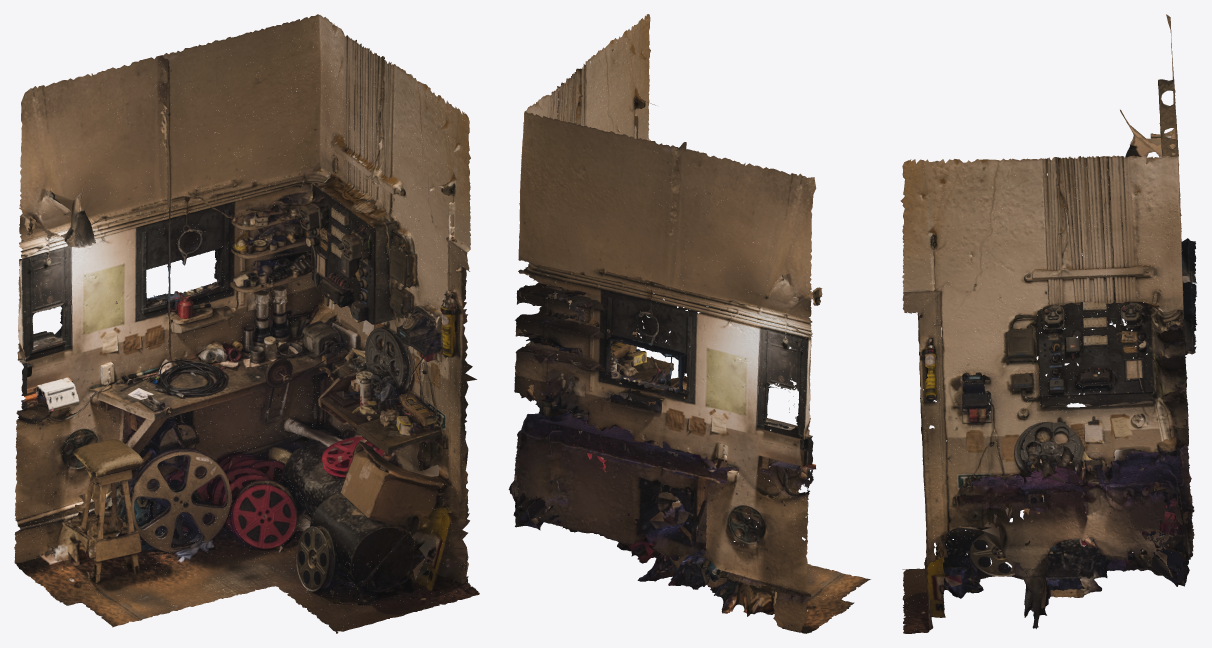
Rendered from crystal_palace_cinema_from_realityvirtual.co.glb.
3 views of the same model, side by side, from view 1: azimuth 30°, elevation 25°; view 2: azimuth 150°, elevation 25°; view 3: azimuth 270°, elevation 25° (orthographic). The views are drawn at different scales.
Visible parts, largest first — view 1: Object_2, Object_3, Object_4, Object_5, Object_6, Object_7, Object_8; view 2: Object_2, Object_3, Object_4, Object_6, Object_5, Object_7, Object_8; view 3: Object_2, Object_4, Object_3, Object_5, Object_6, Object_7, Object_8.
Boxes of the visible parts, x1,y1,x2,y2 form: Object_2: (14, 26, 479, 626); Object_3: (17, 14, 475, 633); Object_4: (14, 15, 455, 631); Object_5: (15, 14, 468, 605); Object_6: (16, 21, 470, 618); Object_7: (14, 26, 476, 607); Object_8: (15, 72, 469, 604); Object_2: (514, 14, 852, 632); Object_3: (514, 18, 815, 585); Object_4: (517, 48, 870, 633); Object_6: (515, 53, 860, 630); Object_5: (508, 14, 812, 585); Object_7: (515, 65, 824, 632); Object_8: (522, 113, 811, 617); Object_2: (900, 14, 1193, 633); Object_4: (902, 100, 1196, 610); Object_3: (902, 99, 1193, 633); Object_5: (904, 100, 1196, 593); Object_6: (902, 21, 1195, 617); Object_7: (902, 17, 1197, 628); Object_8: (905, 103, 1193, 628).
Bounding box in the file's own units: 27.93 × 39.45 × 22.43.
1 material, 1 textured.
